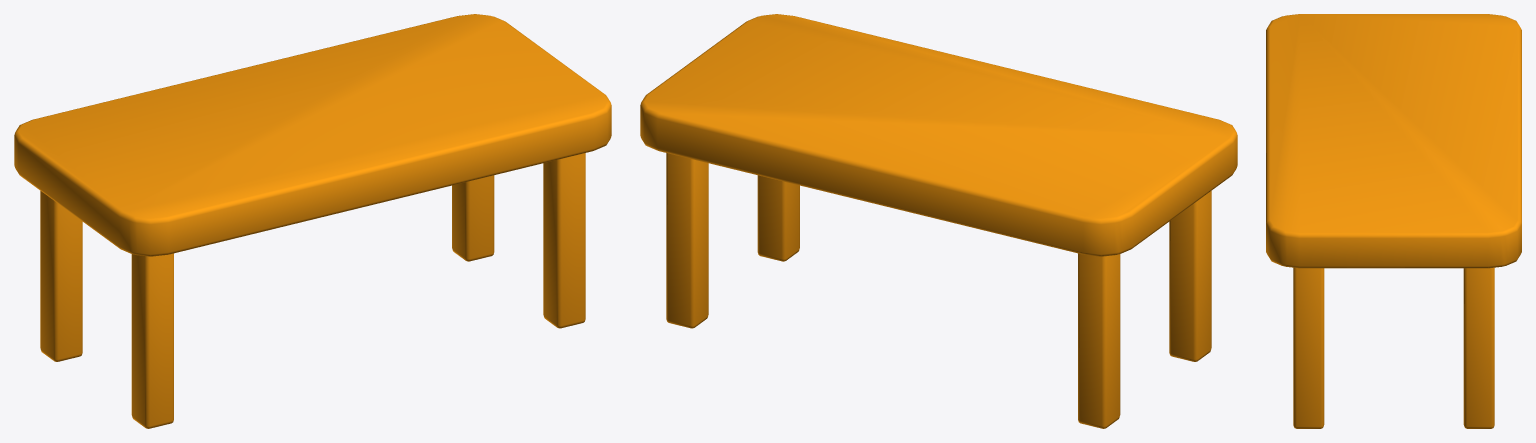
Rendered from desk.fbx.
The picture shows the model from 3 angles, left to right: view 1: azimuth 30°, elevation 25°; view 2: azimuth 150°, elevation 25°; view 3: azimuth 270°, elevation 25°; orthographic projection. The views are drawn at different scales.
Parts seen in each view (by area): view 1: desk; view 2: desk; view 3: desk.
Boxes of the visible parts, x1=… form: desk: x1=14, y1=14, x2=611, y2=428; desk: x1=640, y1=14, x2=1237, y2=428; desk: x1=1266, y1=14, x2=1521, y2=428.
Bounding box in the file's own units: 7.19 × 3.12 × 3.5.
